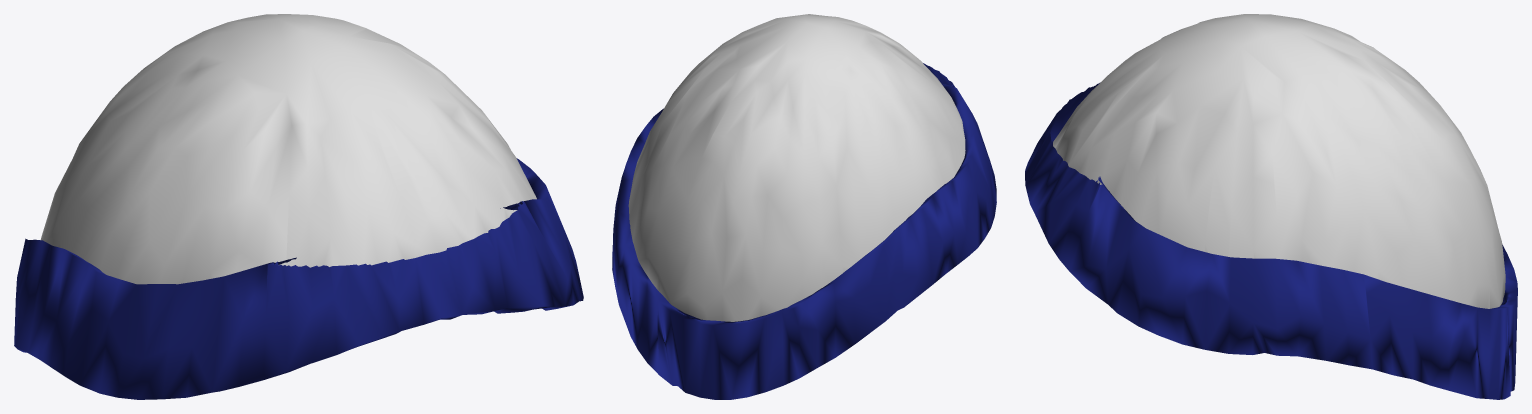
Rendered from hat_beanie.glb.
3 views of the same model, side by side, from view 1: azimuth 30°, elevation 25°; view 2: azimuth 150°, elevation 25°; view 3: azimuth 270°, elevation 25° (orthographic). The views are drawn at different scales.
Parts seen in each view (by area): view 1: hat_beanie_0_primary, hat_beanie_1_secondary; view 2: hat_beanie_0_primary, hat_beanie_1_secondary; view 3: hat_beanie_0_primary, hat_beanie_1_secondary.
Boxes of the visible parts, bbox=[...] form: hat_beanie_0_primary: bbox=[40, 14, 536, 284]; hat_beanie_1_secondary: bbox=[14, 158, 583, 399]; hat_beanie_0_primary: bbox=[628, 14, 965, 321]; hat_beanie_1_secondary: bbox=[612, 63, 996, 399]; hat_beanie_0_primary: bbox=[1053, 14, 1505, 308]; hat_beanie_1_secondary: bbox=[1025, 82, 1517, 399].
Size of the model in its own units: 0.2233 by 0.1957 by 0.2437.
